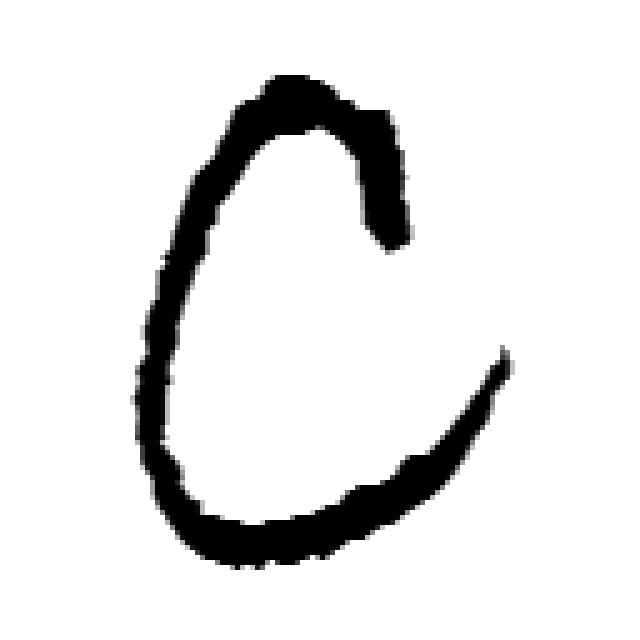C: (135, 75, 515, 570)
